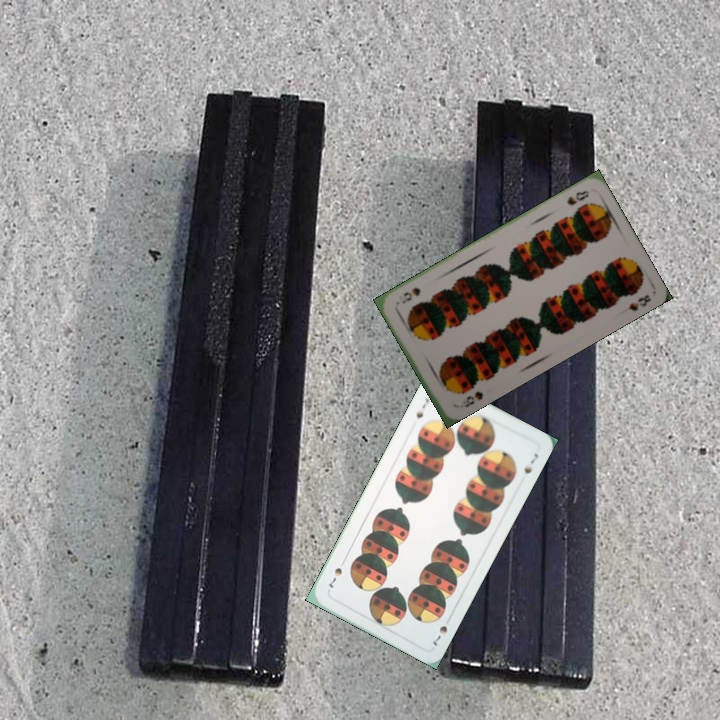S7: (429, 621, 450, 649), (412, 394, 432, 421)
S8: (458, 387, 486, 410), (563, 186, 592, 208)
